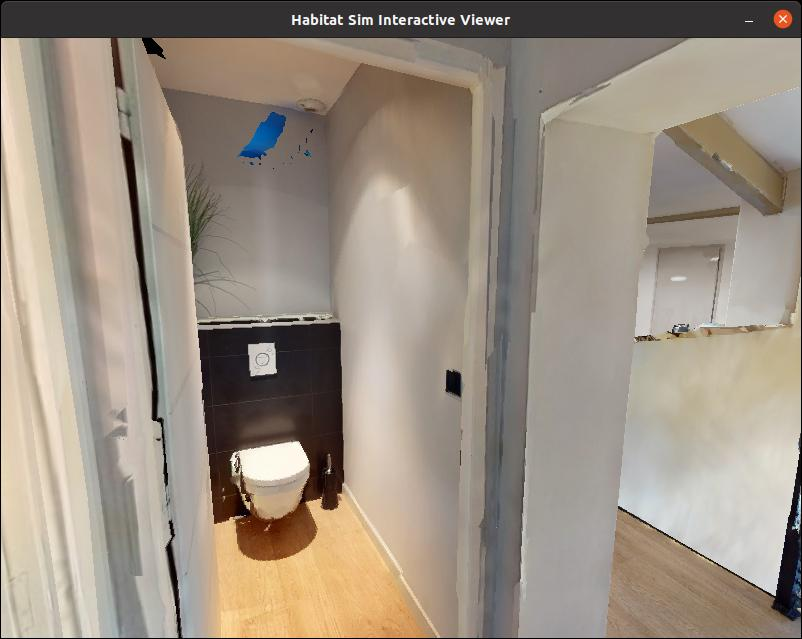door-frame: (136, 41, 511, 639), (539, 73, 802, 639)
toilet: (219, 405, 324, 535)
